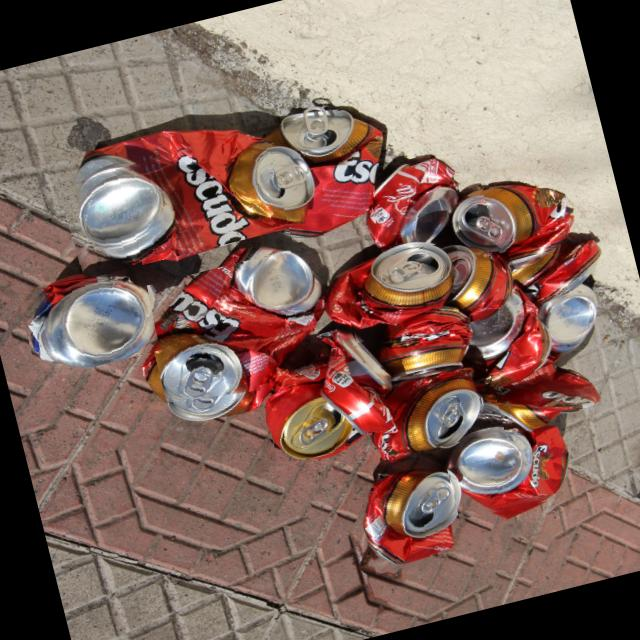Cans: (52, 117, 306, 280), (136, 248, 326, 420), (262, 102, 390, 244), (356, 331, 492, 460), (16, 262, 162, 381), (478, 158, 583, 306), (258, 360, 371, 466), (339, 258, 460, 346), (446, 442, 568, 524), (355, 476, 451, 574), (488, 349, 595, 436), (366, 169, 454, 257)
